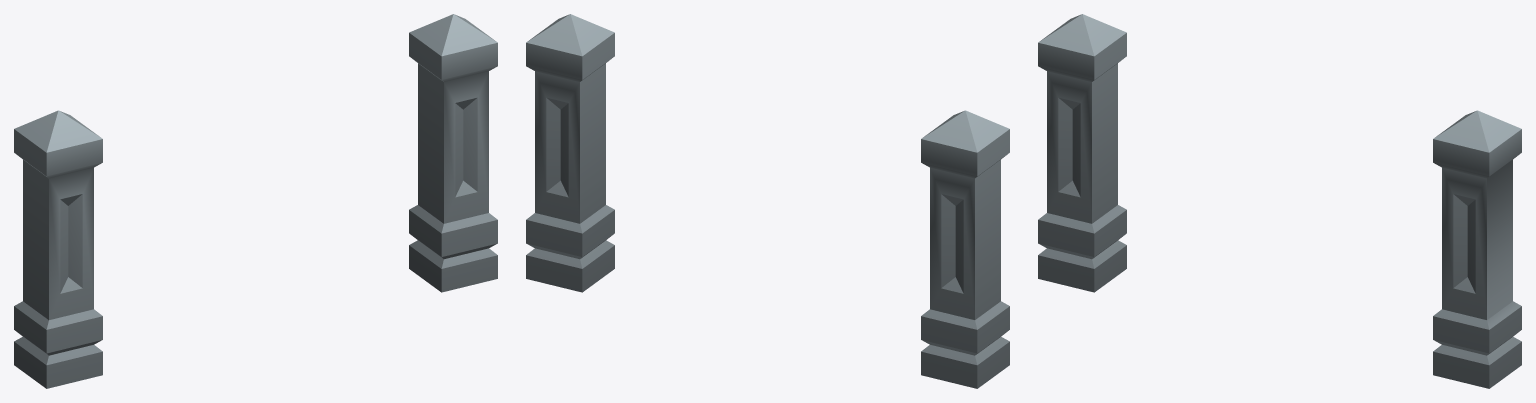
Rendered from fence_gate.obj.
The picture shows the model from 3 angles, left to right: view 1: azimuth 30°, elevation 25°; view 2: azimuth 150°, elevation 25°; view 3: azimuth 330°, elevation 25°; orthographic projection.
Visible parts, largest first — view 1: fence_gate_Cube.070; view 2: fence_gate_Cube.070; view 3: fence_gate_Cube.070.
Boxes of the visible parts, x1=… form: fence_gate_Cube.070: x1=14, y1=14, x2=497, y2=388; fence_gate_Cube.070: x1=526, y1=14, x2=1009, y2=388; fence_gate_Cube.070: x1=1038, y1=14, x2=1521, y2=388.
Size of the model in its own units: 4 by 2.2 by 0.5.
Materials: 1 (1 with a texture image).
